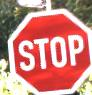Stop sign: (0, 0, 91, 94)
